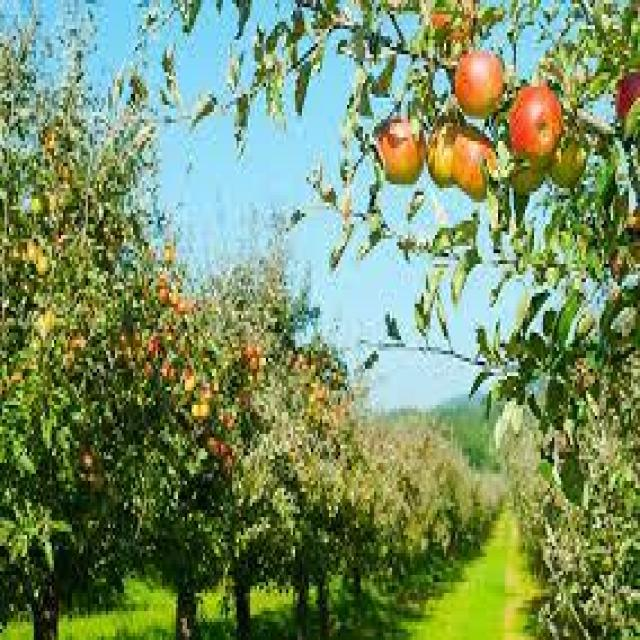fruit: (509, 81, 566, 167), (453, 48, 505, 119), (376, 115, 424, 185), (450, 130, 497, 200), (508, 130, 550, 203), (547, 120, 590, 190), (610, 66, 640, 137), (427, 122, 459, 187), (430, 7, 474, 51)
